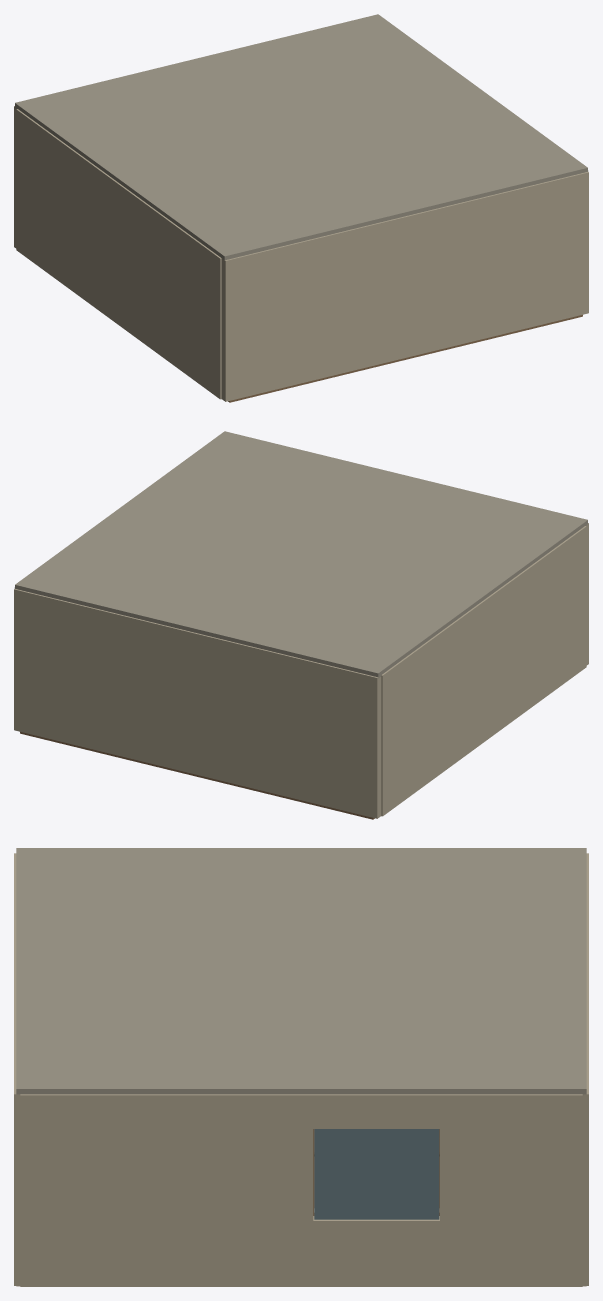
The model's file is kahvehane_atmosphere.glb.
3 views of the same model, one above another, from view 1: azimuth 30°, elevation 25°; view 2: azimuth 150°, elevation 25°; view 3: azimuth 270°, elevation 25° (orthographic). The views are drawn at different scales.
Parts seen in each view (by area): view 1: Quiet ceiling.005, Entry lime wall.005, Left lime wall.005, Wide floor board.286; view 2: Quiet ceiling.005, Back lime wall.005, Left lime wall.005, Wide floor board.241; view 3: Quiet ceiling.005, Right lime wall.011, Right lime wall.010, WindowOutside.005, Window below.005, Window above.005, Back lime wall.005, Entry lime wall.005.
Part boxes in pixels (x1,y1,x2,y2): Quiet ceiling.005: (15, 14, 587, 260); Entry lime wall.005: (221, 172, 588, 401); Left lime wall.005: (16, 109, 221, 399); Wide floor board.286: (228, 351, 431, 402); Quiet ceiling.005: (15, 431, 587, 678); Back lime wall.005: (14, 589, 381, 818); Left lime wall.005: (381, 526, 586, 816); Wide floor board.241: (20, 732, 236, 786); Quiet ceiling.005: (16, 848, 586, 1094); Right lime wall.011: (20, 1094, 313, 1286); Right lime wall.010: (440, 1094, 582, 1286); WindowOutside.005: (314, 1129, 439, 1219); Window below.005: (313, 1216, 439, 1286); Window above.005: (313, 1094, 439, 1128); Back lime wall.005: (582, 853, 588, 1285); Entry lime wall.005: (14, 853, 20, 1285).
Size of the model in its own units: 8.71 by 3.35 by 8.71.
